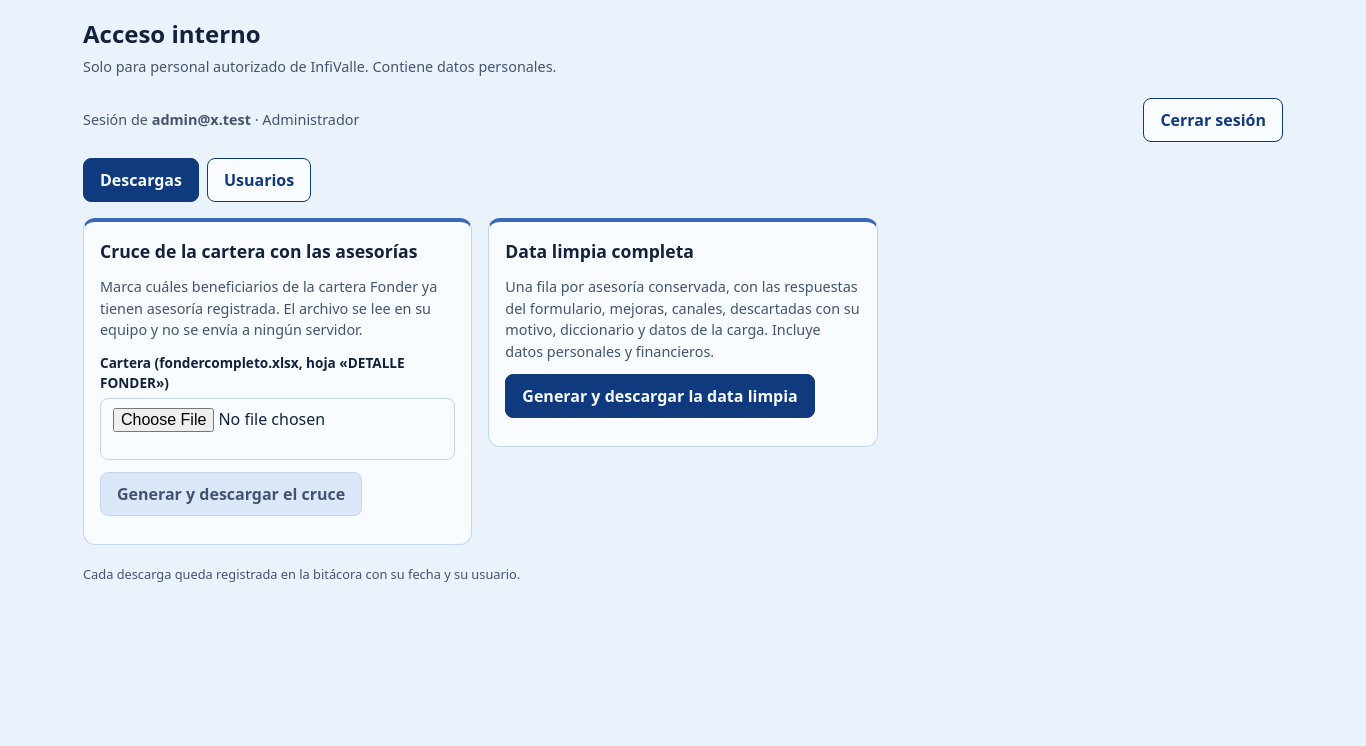
Test: Panel de usuarios › restablecer contraseña entrega la clave nueva
Click the button "Usuarios".
click(259, 180)  # box [207,158,311,202]
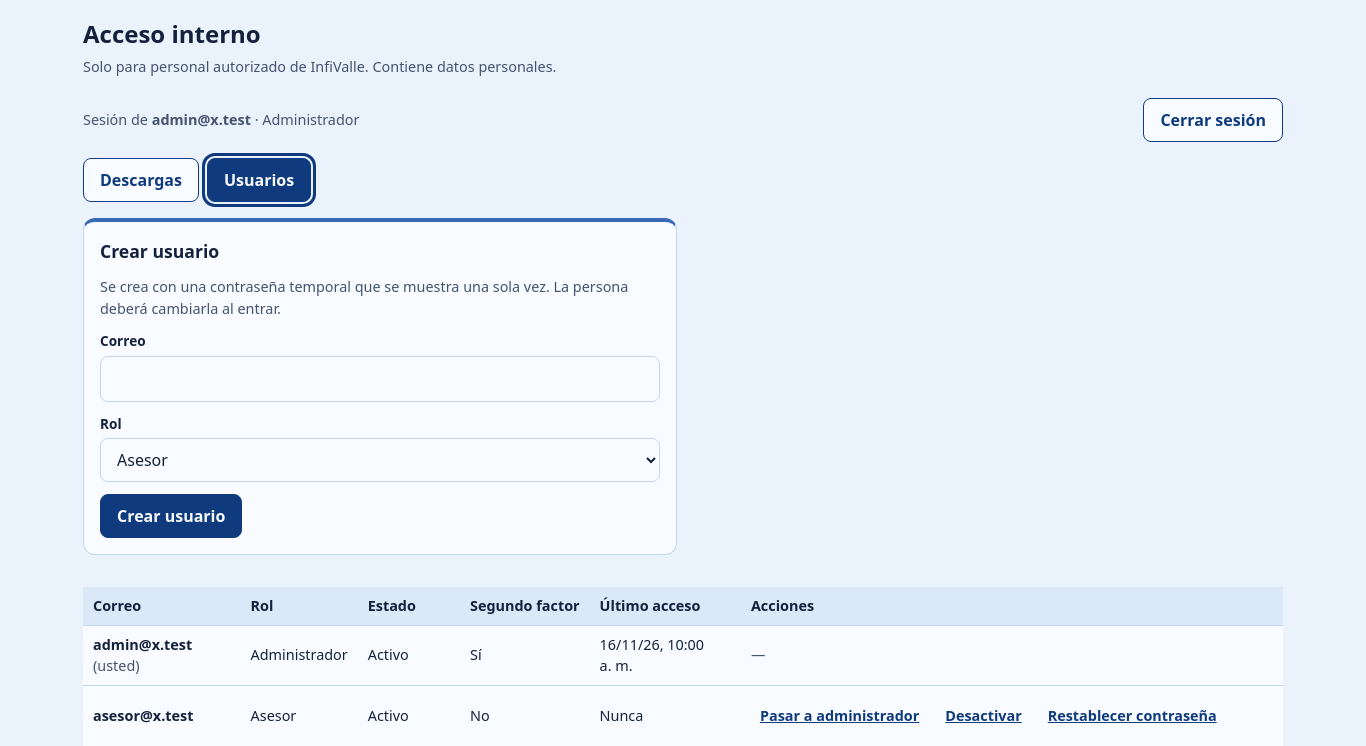
Click the button with aria-label "Restablecer contraseña a asesor@x.test".
click(1132, 716)  # box [1039,694,1226,738]
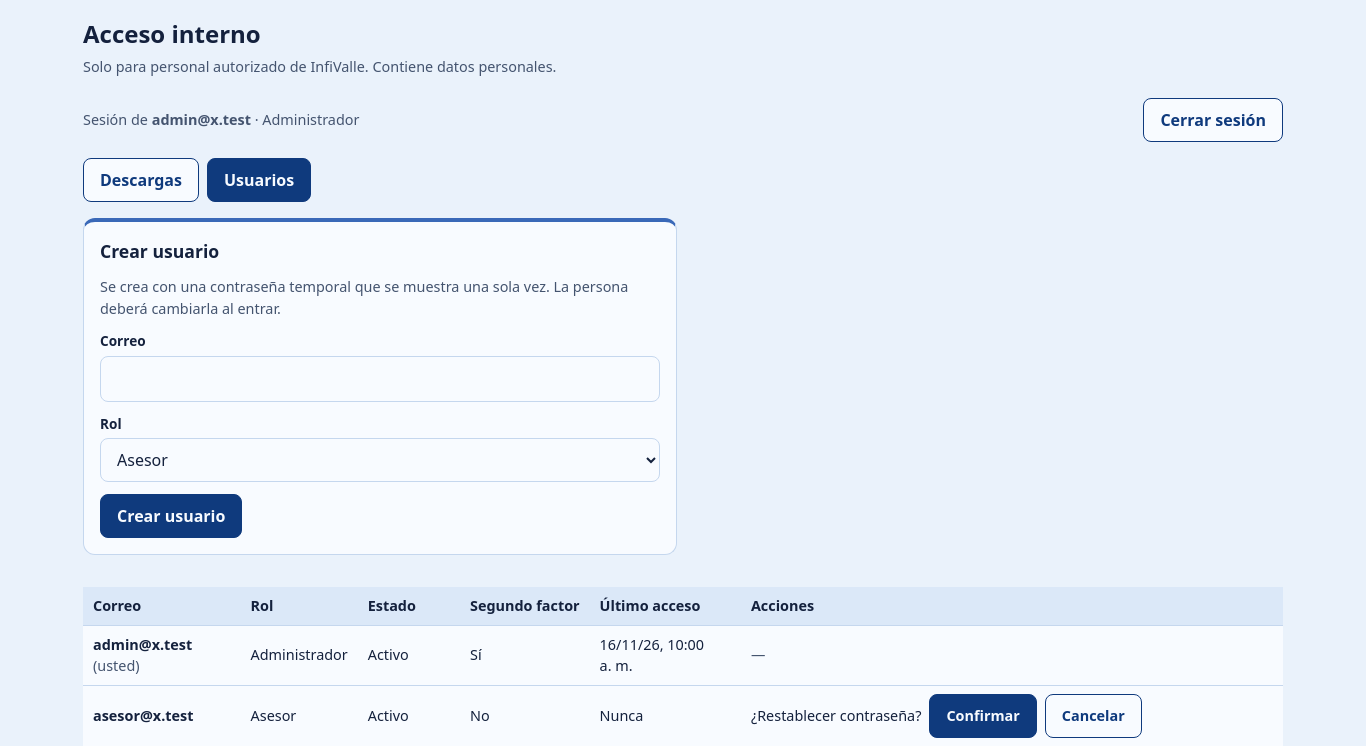
Click the button "Confirmar".
click(983, 716)  # box [930,694,1037,738]
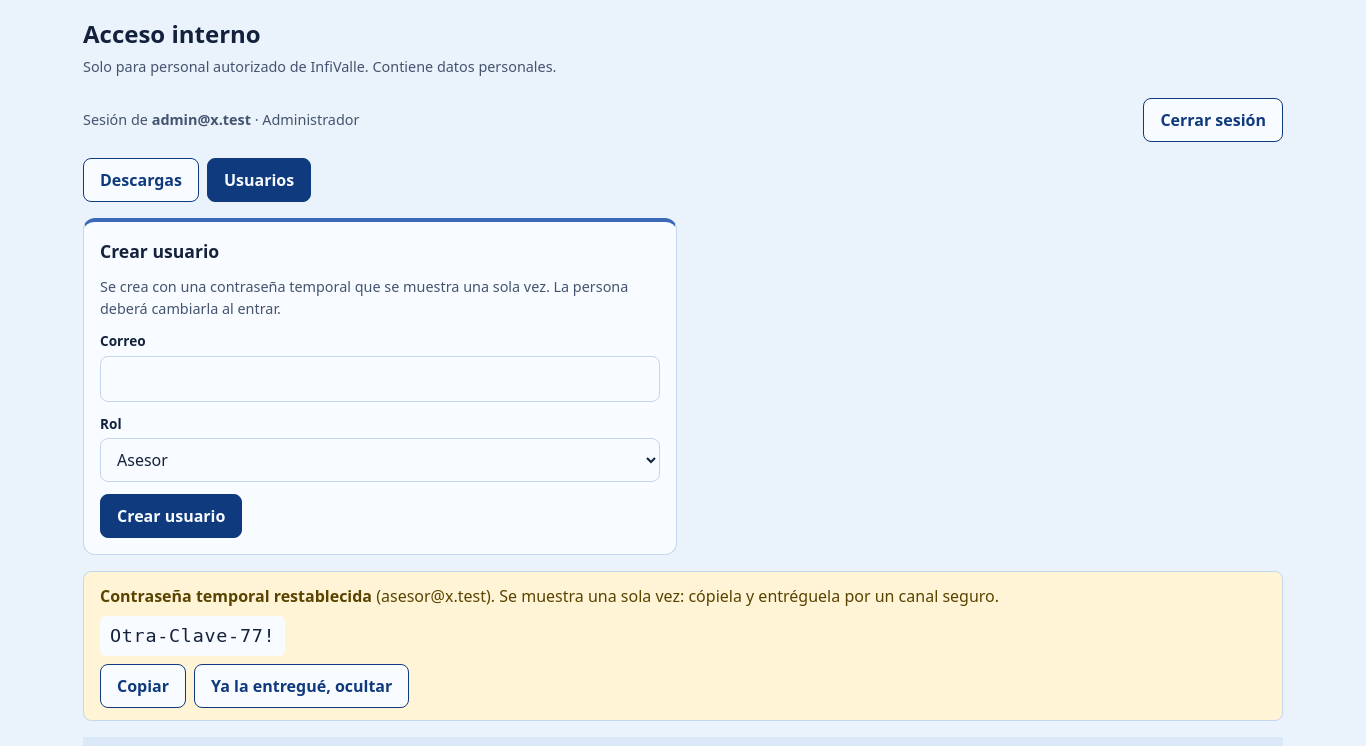
Now the text "Otra-Clave-77!" is shown, box [100,616,285,656]
